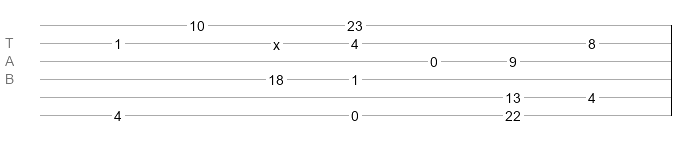0: (351, 108, 359, 118), (430, 54, 438, 64)
1: (114, 36, 122, 46), (351, 72, 359, 82)
10: (189, 18, 205, 28)
13: (505, 90, 521, 100)
18: (268, 72, 284, 82)
22: (505, 108, 521, 118)
23: (347, 18, 363, 28)
4: (114, 108, 122, 118), (351, 36, 359, 46), (588, 90, 596, 100)
8: (588, 36, 596, 46)
9: (509, 54, 517, 64)
x: (273, 37, 280, 45)
